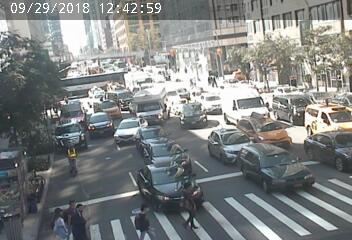car: (249, 147, 307, 184), (143, 171, 196, 203), (226, 88, 268, 119), (314, 130, 352, 163), (308, 103, 347, 134), (135, 85, 163, 120), (279, 91, 311, 119), (182, 101, 215, 128), (243, 114, 280, 136), (147, 140, 182, 161), (214, 129, 241, 153), (54, 132, 84, 152), (59, 100, 86, 121), (92, 112, 115, 135), (139, 126, 168, 143), (122, 113, 138, 141), (110, 80, 127, 104), (196, 92, 219, 108), (99, 95, 117, 112), (172, 86, 187, 96)
